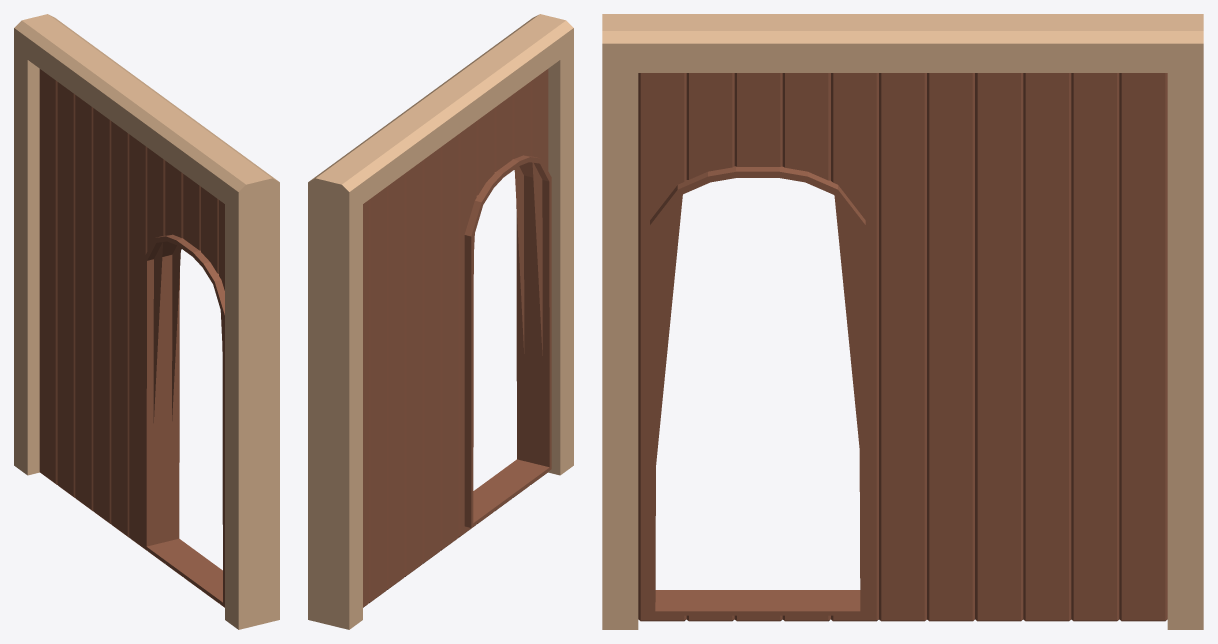
Rendered from Door Frame B.glb.
3 views of the same model, side by side, from view 1: azimuth 30°, elevation 25°; view 2: azimuth 150°, elevation 25°; view 3: azimuth 270°, elevation 25° (orthographic). The views are drawn at different scales.
Parts seen in each view (by area): view 1: Door Frame B; view 2: Door Frame B; view 3: Door Frame B.
Boxes of the visible parts, x1,y1,x2,y2 form: Door Frame B: (14, 14, 279, 629); Door Frame B: (308, 14, 573, 629); Door Frame B: (602, 14, 1203, 629).
Size of the model in its own units: 0.0746 by 0.7675 by 0.7043.
